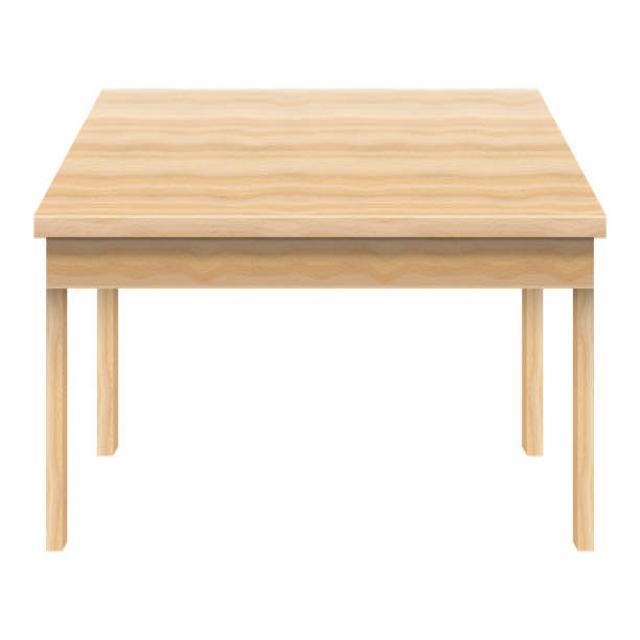table: (32, 85, 606, 554)
